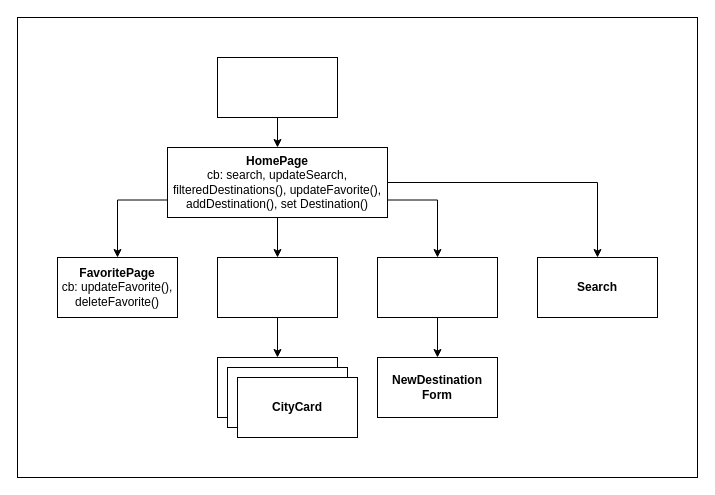
Image size: 715x495. Some labels were removed from this diagram. The shapes that lost their labels are listed below. From the top down, each one's centre as x and y in pixels, then its label:
At point 277,87: "App".
At point 277,287: "CityList".
At point 437,287: "NewDestination cb: addPlaces".
